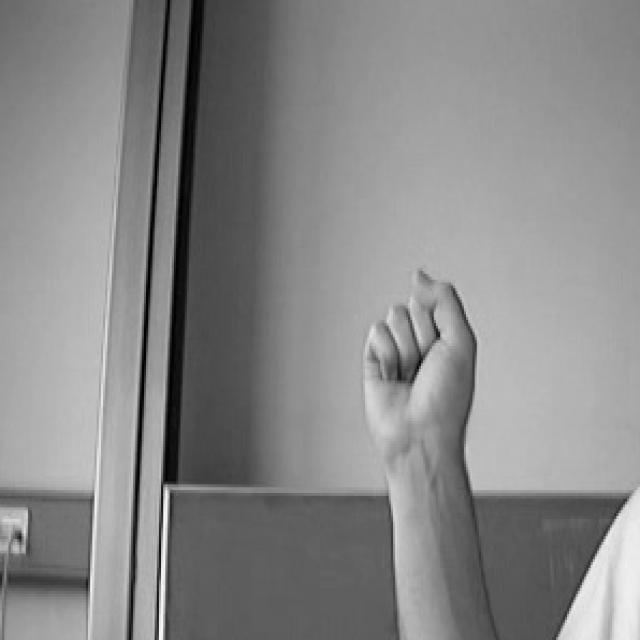S: (351, 258, 492, 468)
